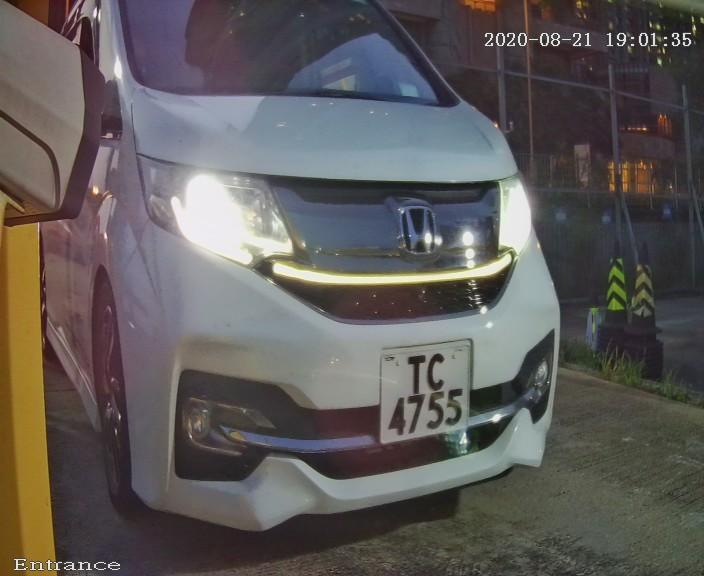License Plate: (371, 330, 484, 458)
